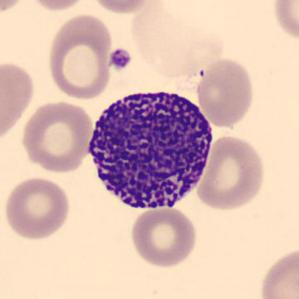Basophil: (80, 79, 218, 218)
Platelets: (107, 46, 133, 72)
RBC: (127, 0, 213, 78), (44, 12, 114, 101), (194, 133, 268, 213), (19, 98, 95, 174), (2, 174, 72, 242), (128, 205, 199, 270), (194, 56, 256, 129), (0, 57, 36, 143), (257, 244, 298, 299), (270, 0, 299, 43), (86, 0, 155, 15), (26, 0, 90, 12), (0, 0, 29, 17)
